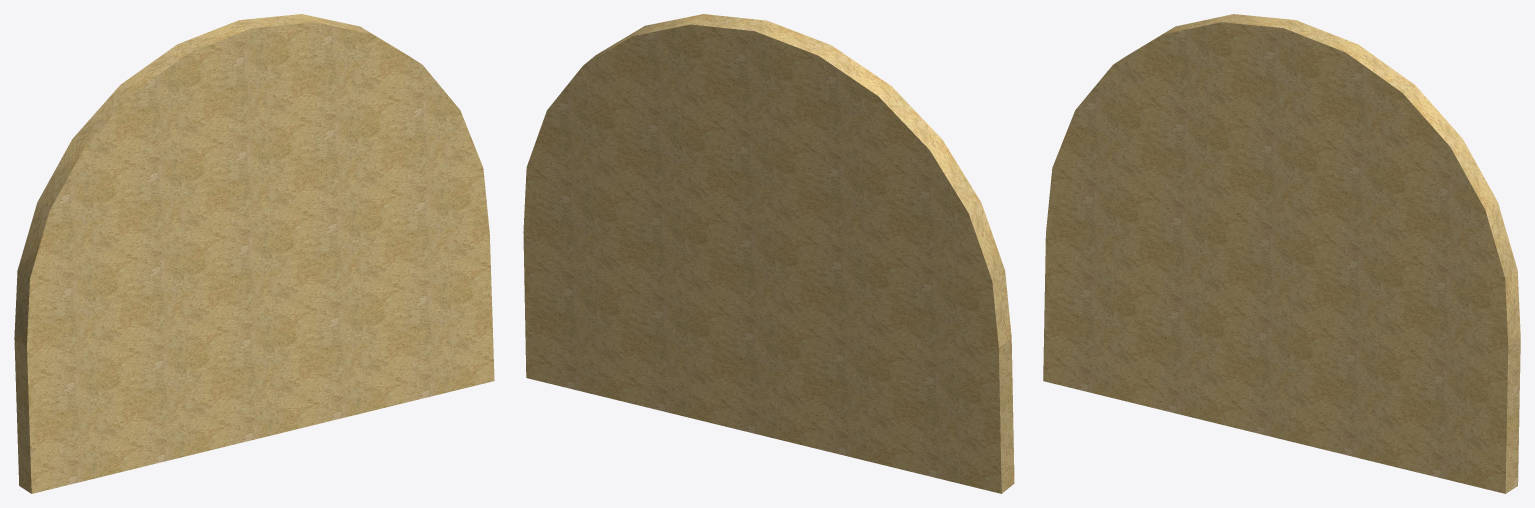
The model's file is fengbimen.gltf.
3 renders of one model, left to right at view 1: azimuth 30°, elevation 25°; view 2: azimuth 150°, elevation 25°; view 3: azimuth 330°, elevation 25°, orthographic. The views are drawn at different scales.
Parts seen in each view (by area): view 1: Mesh1 Model; view 2: Mesh1 Model; view 3: Mesh1 Model.
Boxes of the visible parts, bbox=[...] form: Mesh1 Model: bbox=[14, 14, 494, 493]; Mesh1 Model: bbox=[523, 14, 1014, 493]; Mesh1 Model: bbox=[1043, 14, 1520, 493].
Size of the model in its own units: 3.21 by 2.66 by 0.2734.
Materials: 1 (1 with a texture image).
